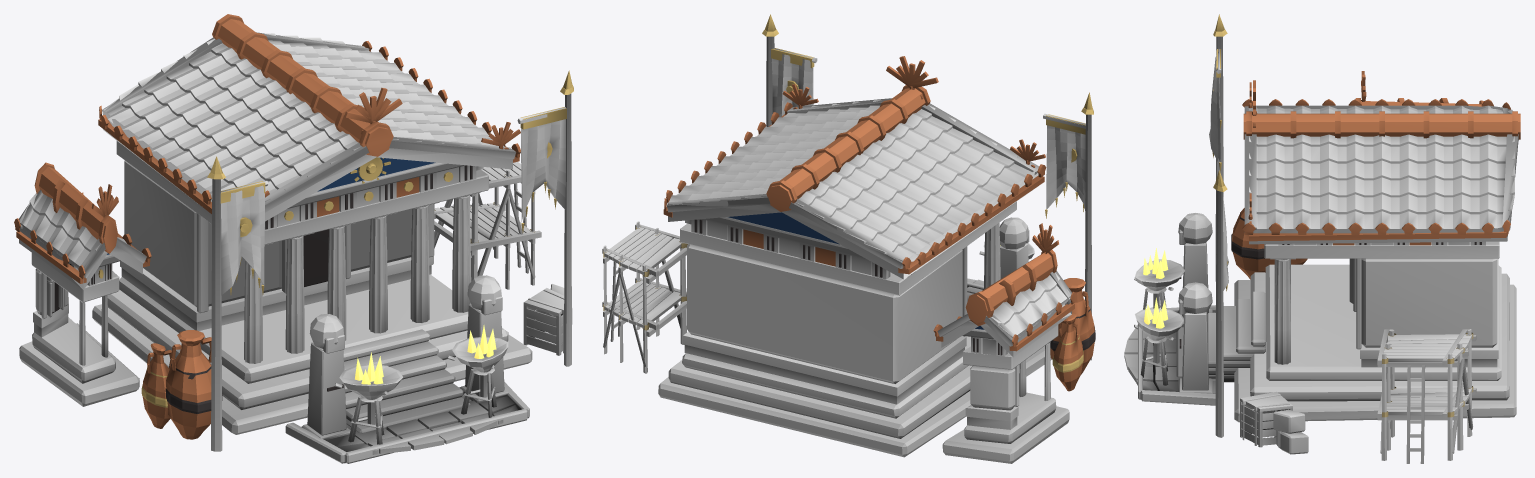
File: polis-hall-l2.glb
3 views of the same model, side by side, from view 1: azimuth 30°, elevation 25°; view 2: azimuth 150°, elevation 25°; view 3: azimuth 270°, elevation 25° (orthographic). The views are drawn at different scales.
Parts seen in each view (by area): view 1: polis-hall-l2; view 2: polis-hall-l2; view 3: polis-hall-l2.
Boxes of the visible parts, x1=… form: polis-hall-l2: x1=14, y1=14, x2=573, y2=463; polis-hall-l2: x1=602, y1=14, x2=1095, y2=463; polis-hall-l2: x1=1124, y1=14, x2=1520, y2=463.
Size of the model in its own units: 1.71 by 1.05 by 1.36.
